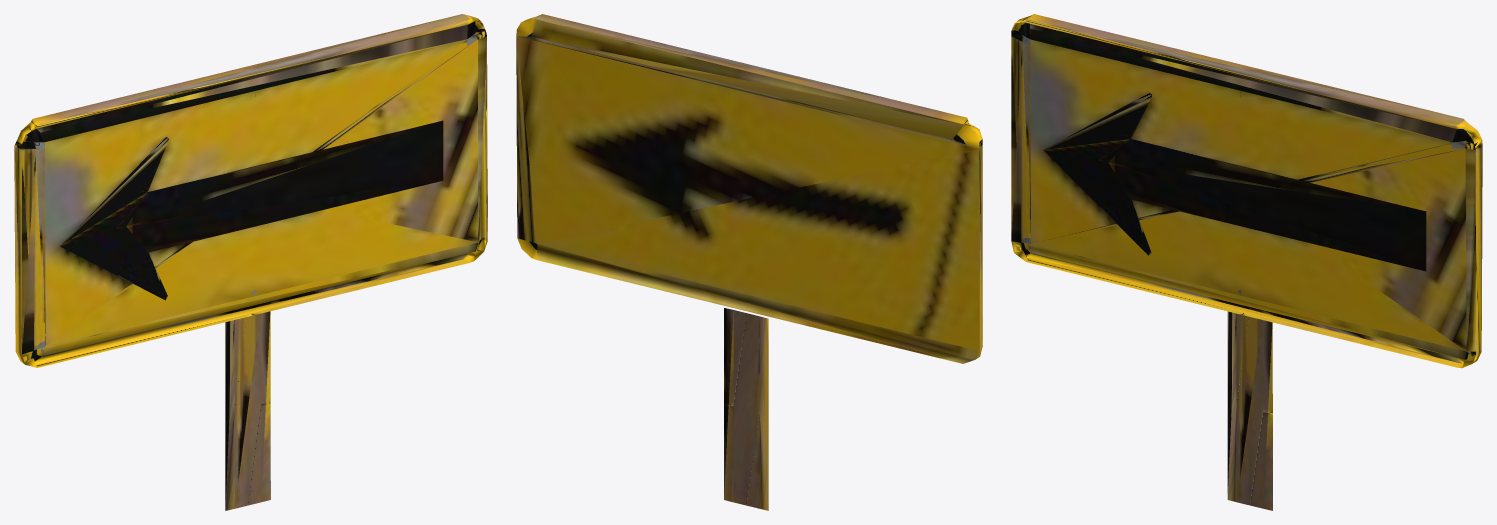
Rendered from stage_sign.glb.
3 renders of one model, left to right at view 1: azimuth 30°, elevation 25°; view 2: azimuth 150°, elevation 25°; view 3: azimuth 330°, elevation 25°, orthographic.
Size of the model in its own units: 0.9456 by 0.8484 by 0.0381.
Materials: 1 (1 with a texture image).
